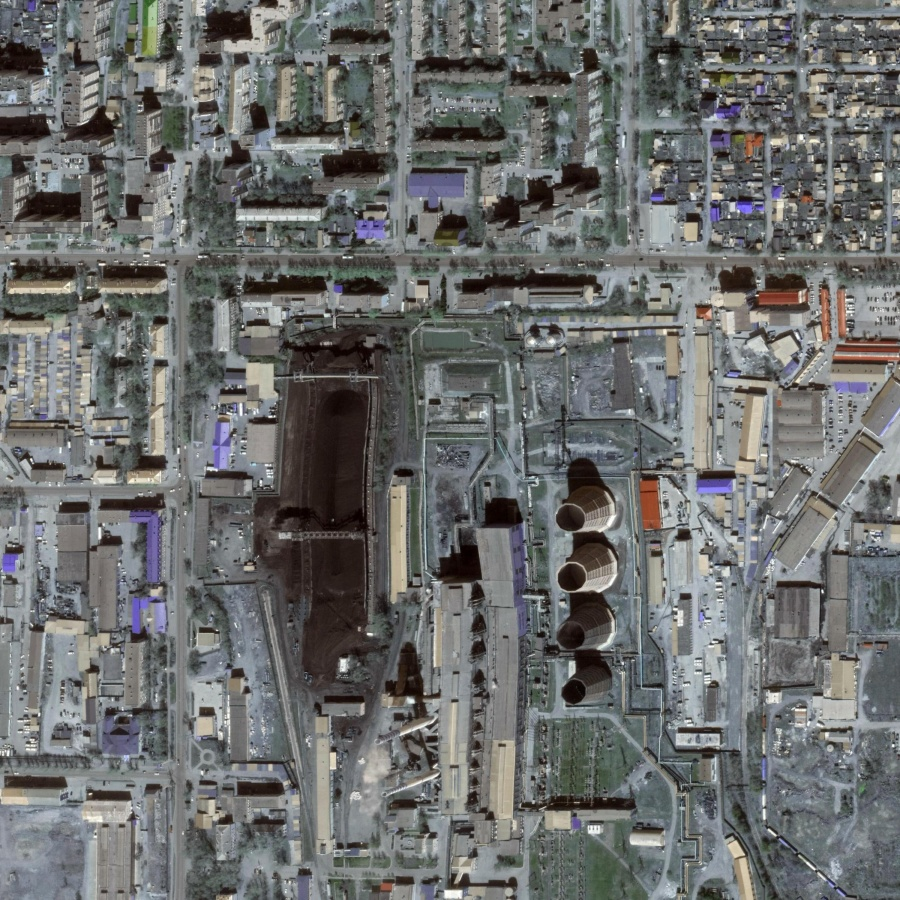PowerPlant: (240, 313, 650, 822)
